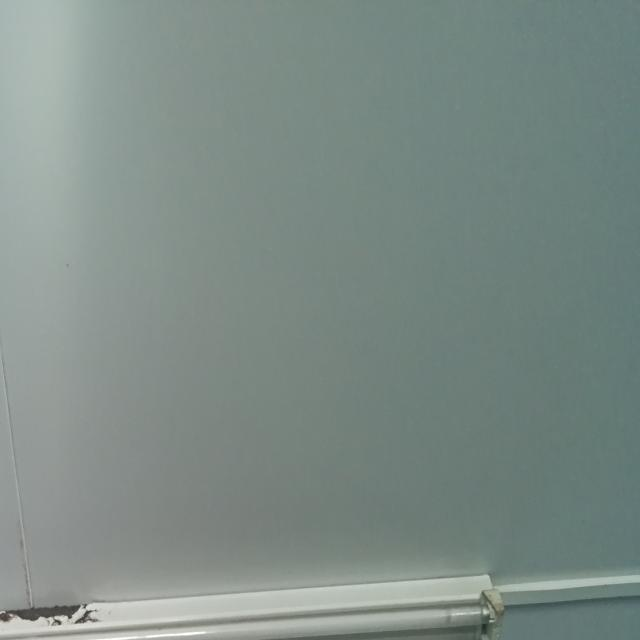fluorescent tube: (0, 552, 521, 640)
